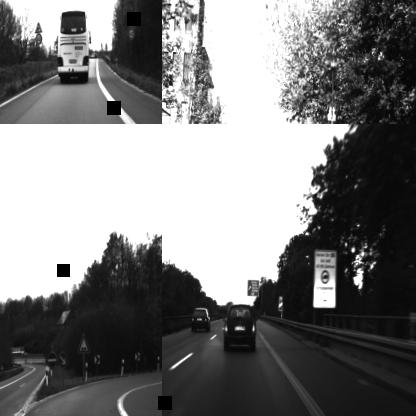NO ENTRY: (46, 351, 58, 369)
bend: (127, 14, 136, 28), (35, 20, 42, 33)
keep right: (57, 350, 68, 368)
no trucks: (320, 270, 330, 284)
speed limit 60: (127, 28, 136, 41), (35, 32, 42, 44)
uneven road: (78, 333, 92, 354)
